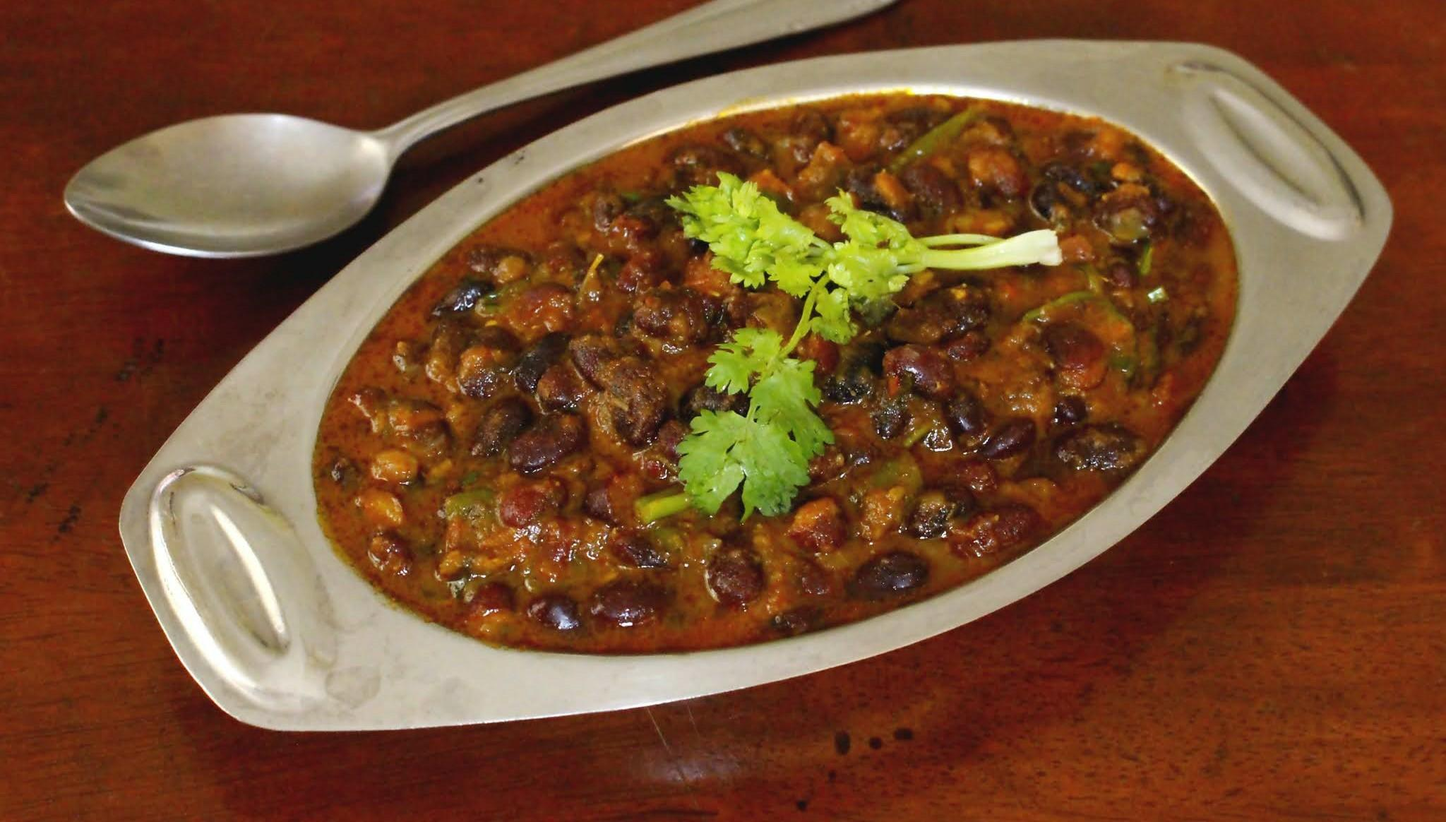RajmaCurry: (328, 87, 1224, 652)
